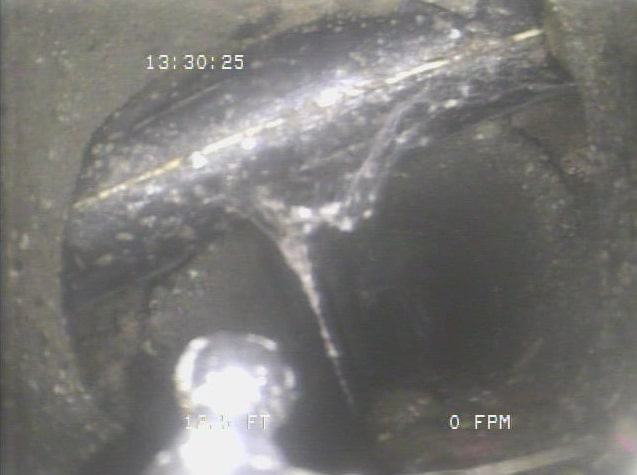cb: (60, 5, 603, 307), (61, 24, 566, 187)
